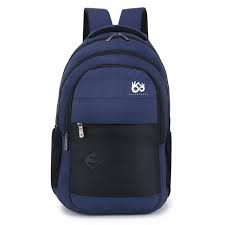bag: (53, 6, 174, 214)
